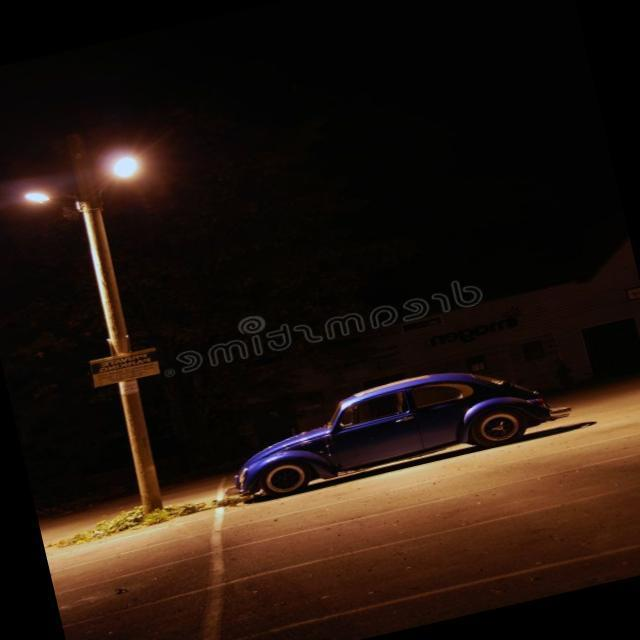on: (18, 146, 160, 210)
